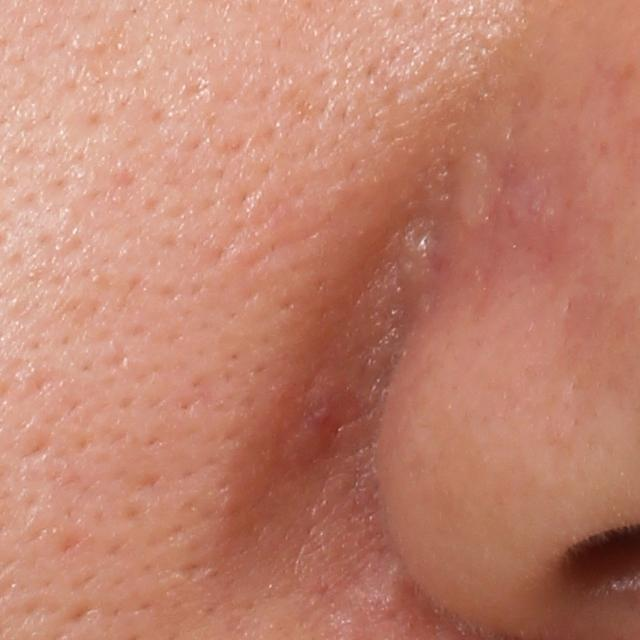hypertrophic_scar: (440, 139, 507, 241)
